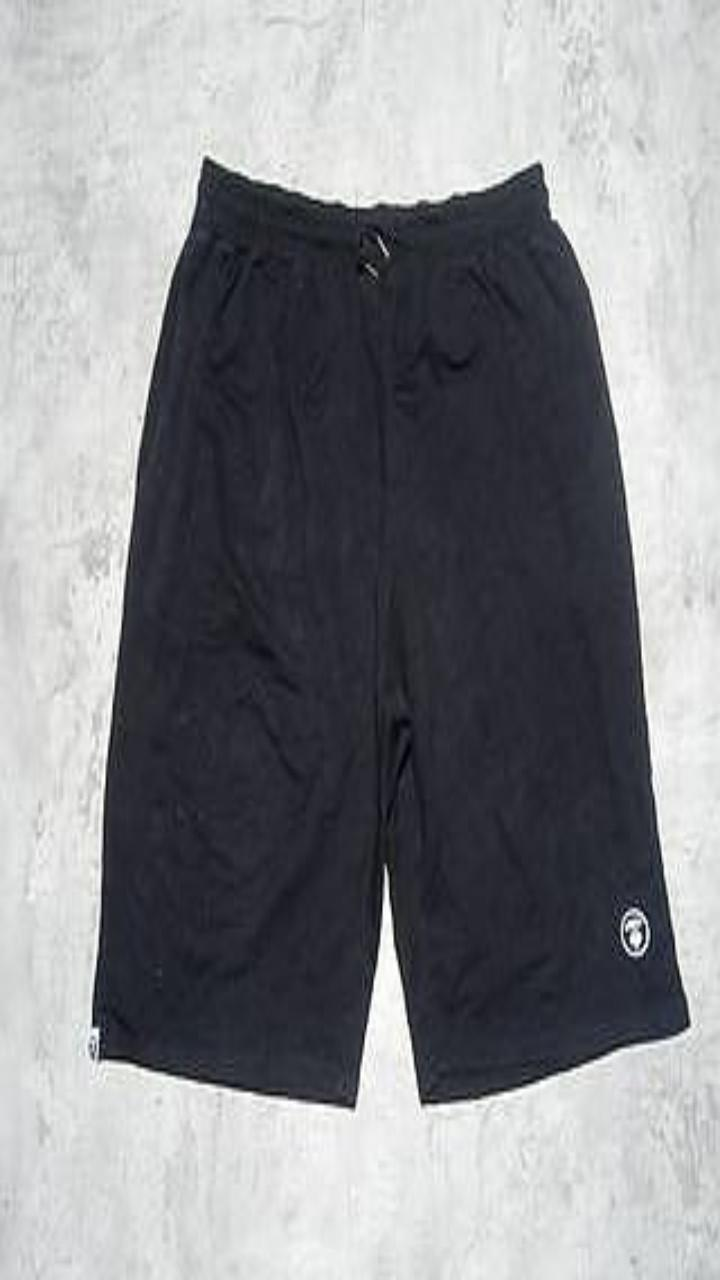Shorts: (91, 156, 688, 1105)
